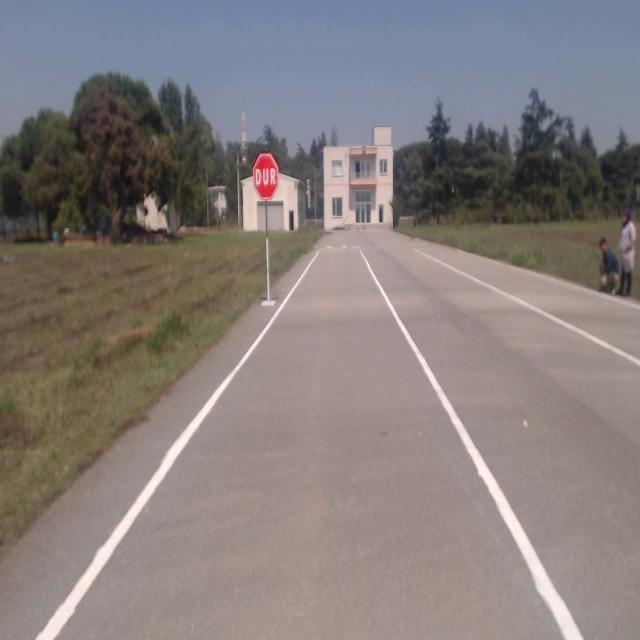dur: (253, 154, 278, 199)
